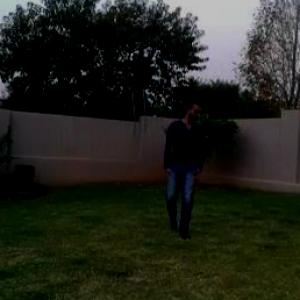follow: (160, 92, 204, 237)
